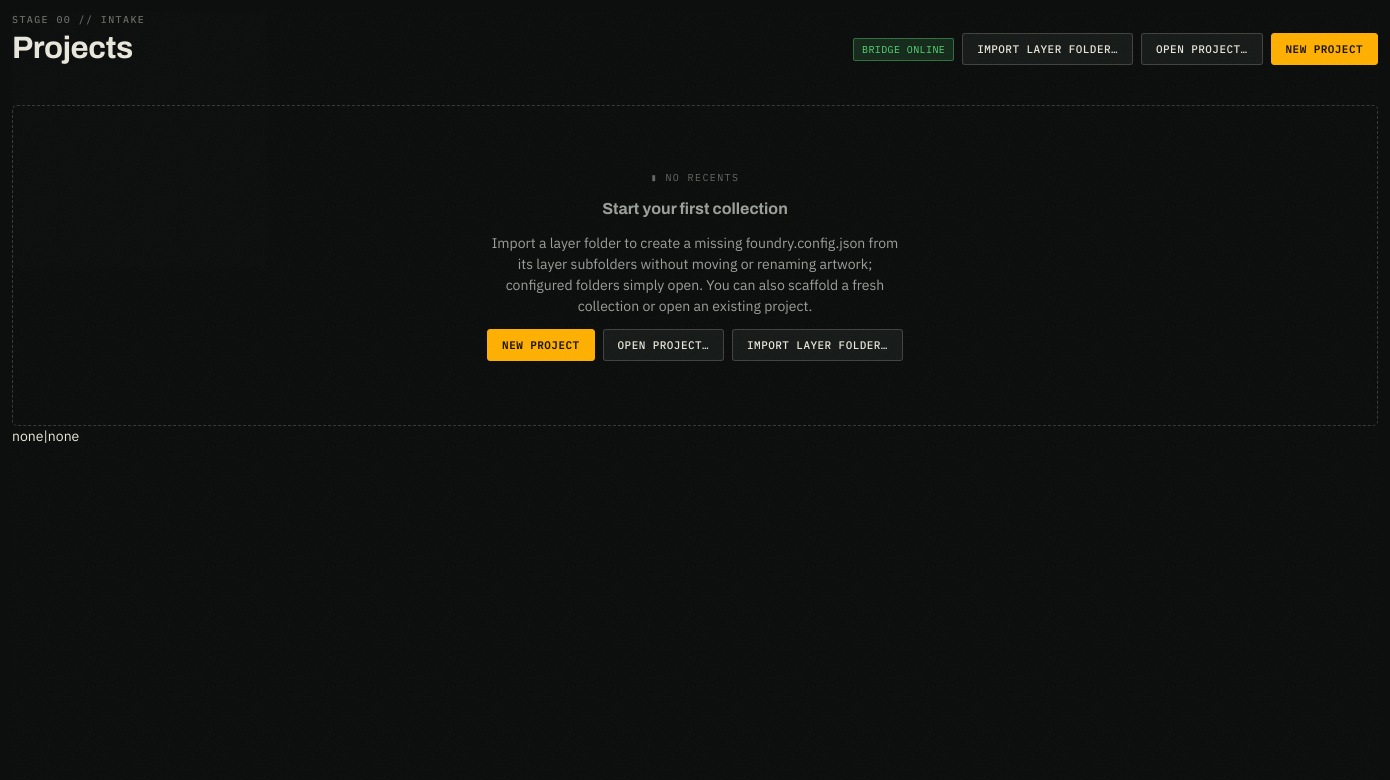
Test case: ProjectsScreen — layer-folder import › opens a configured folder without presenting it as a newly imported config
Click the button "Import layer folder…" next to "BRIDGE ONLINE": x=1048, y=49 [962,33,1133,65]
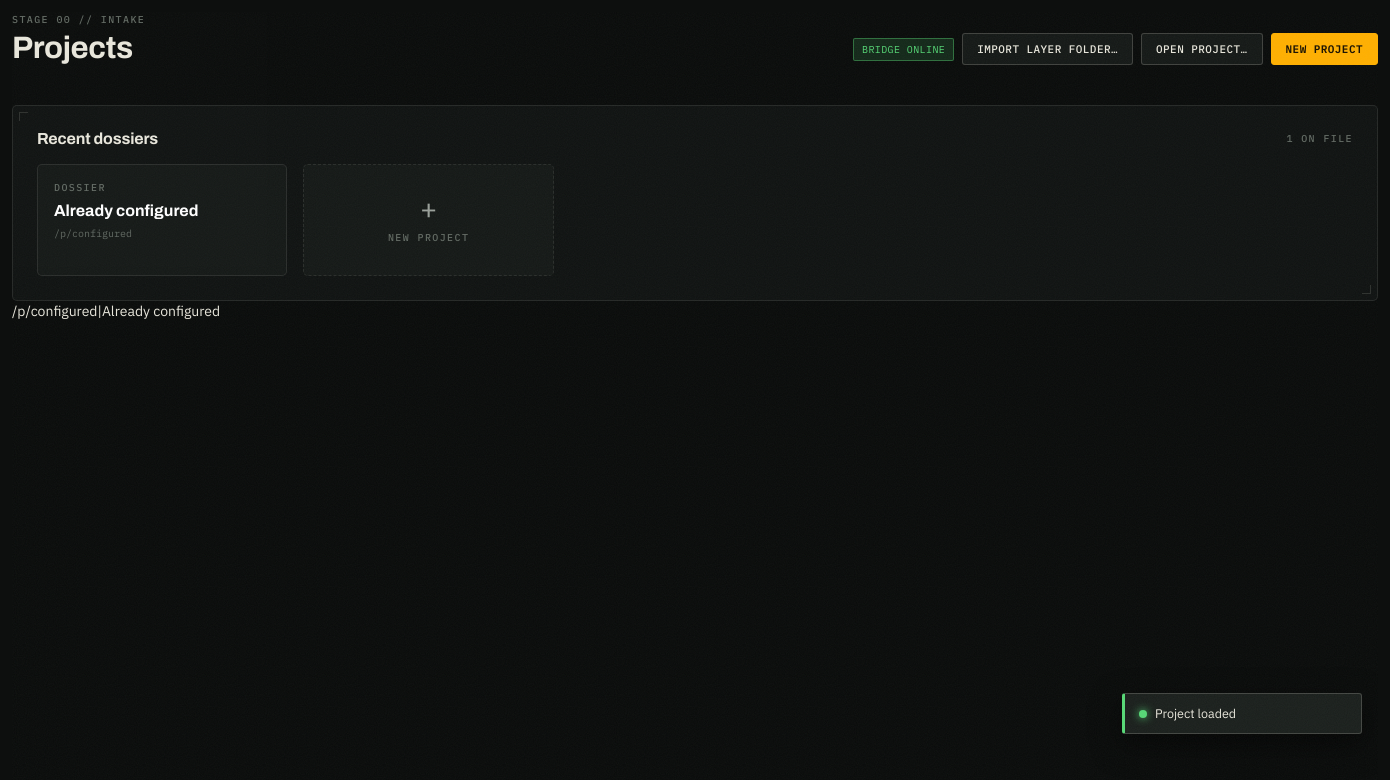
expect the text "Project loaded" is shown: met, box [1122,693,1362,734]
